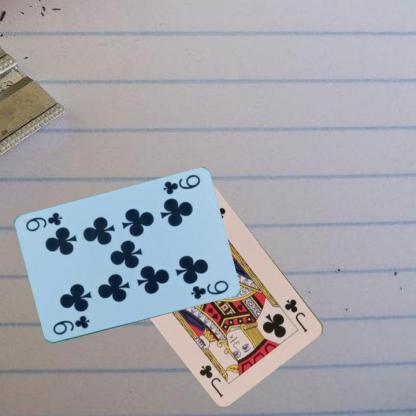9c: (160, 172, 202, 197), (50, 312, 90, 337)
Jc: (282, 296, 309, 333)
